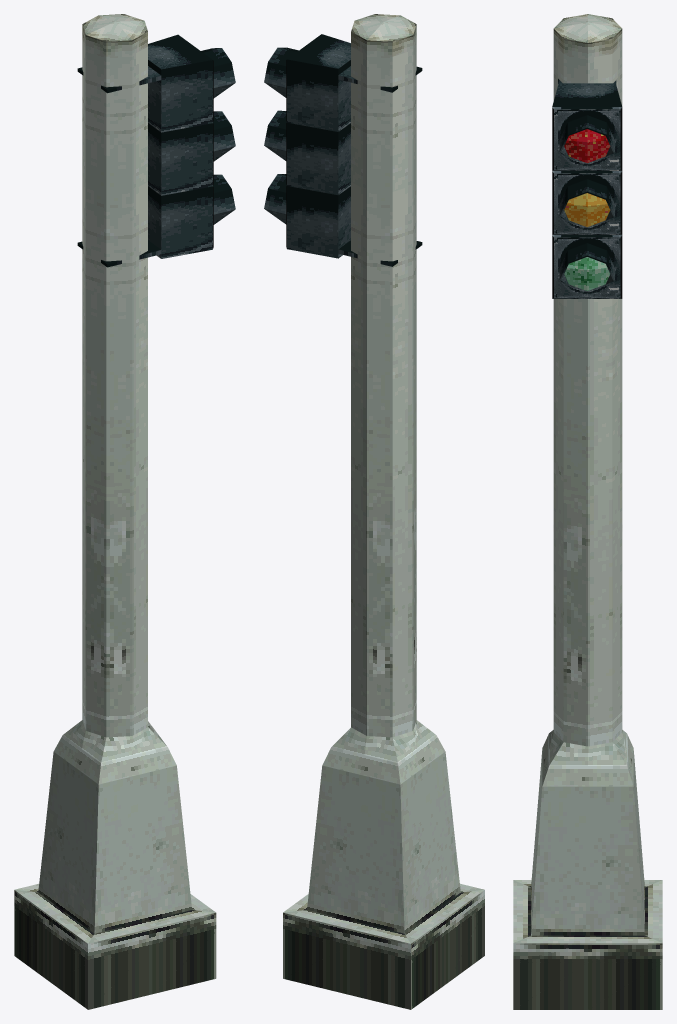
File: traffic_light.glb
The picture shows the model from 3 angles, left to right: view 1: azimuth 30°, elevation 25°; view 2: azimuth 150°, elevation 25°; view 3: azimuth 270°, elevation 25°; orthographic projection.
Visible parts, largest first — view 1: traffic_light; view 2: traffic_light; view 3: traffic_light.
Part boxes in pixels (x1,y1,x2,y2): traffic_light: (14,14,235,1009); traffic_light: (264,14,484,1009); traffic_light: (513,14,662,1009).
Bounding box in the file's own units: 1.07 × 5.66 × 0.8032.
Materials: 1 (1 with a texture image).
